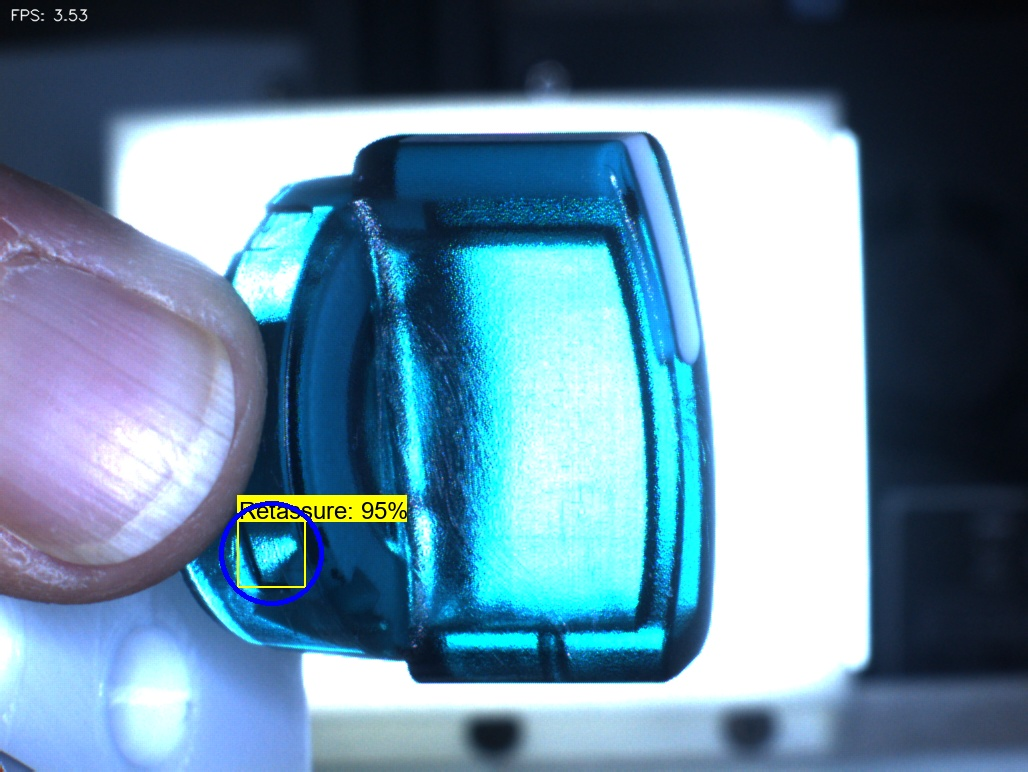Bulle: (496, 594, 599, 702)
